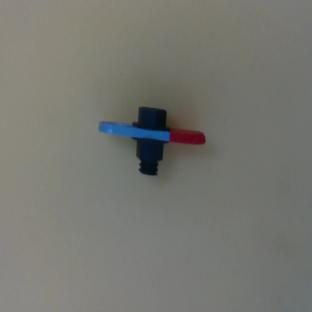part_1_good: (95, 76, 208, 189)
